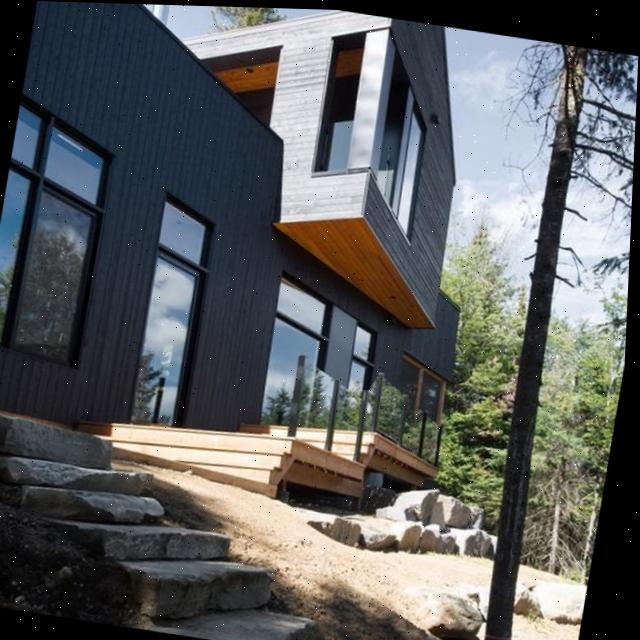building: (0, 0, 518, 490)
